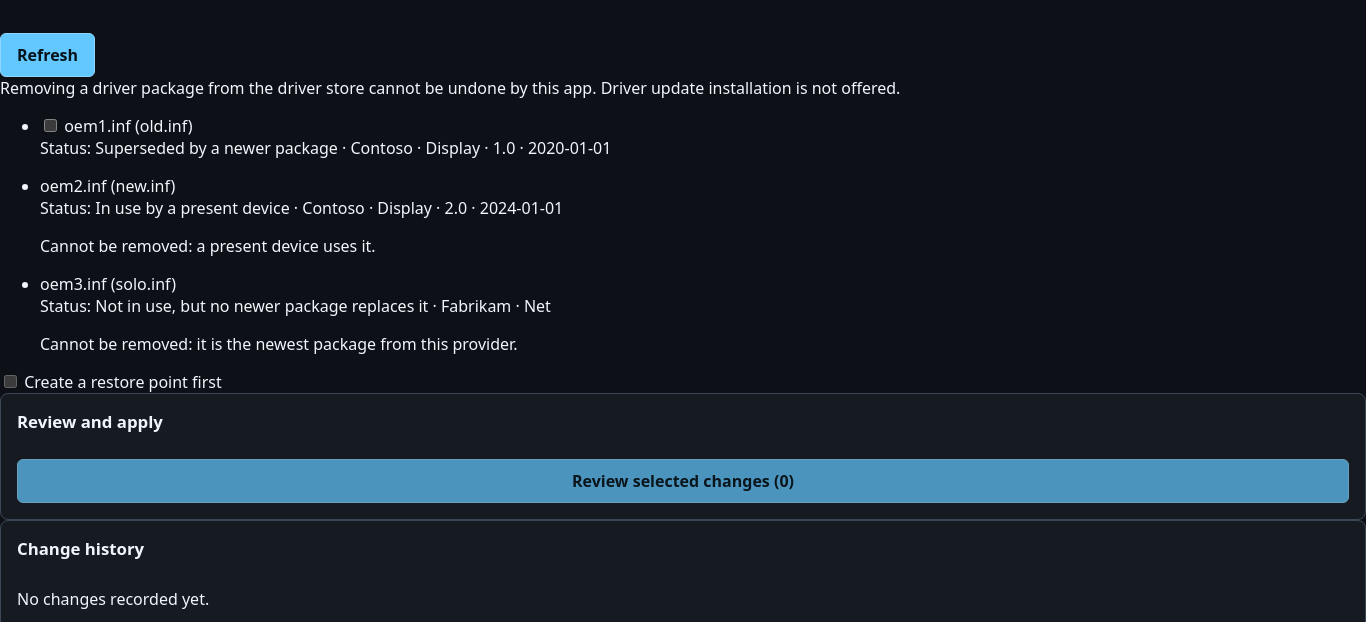
Scenario: sends only the delete when the restore point is unchecked
Click the checkbox labelled "oem1.inf (old.inf)" at (50, 126), box [44,119,57,132]
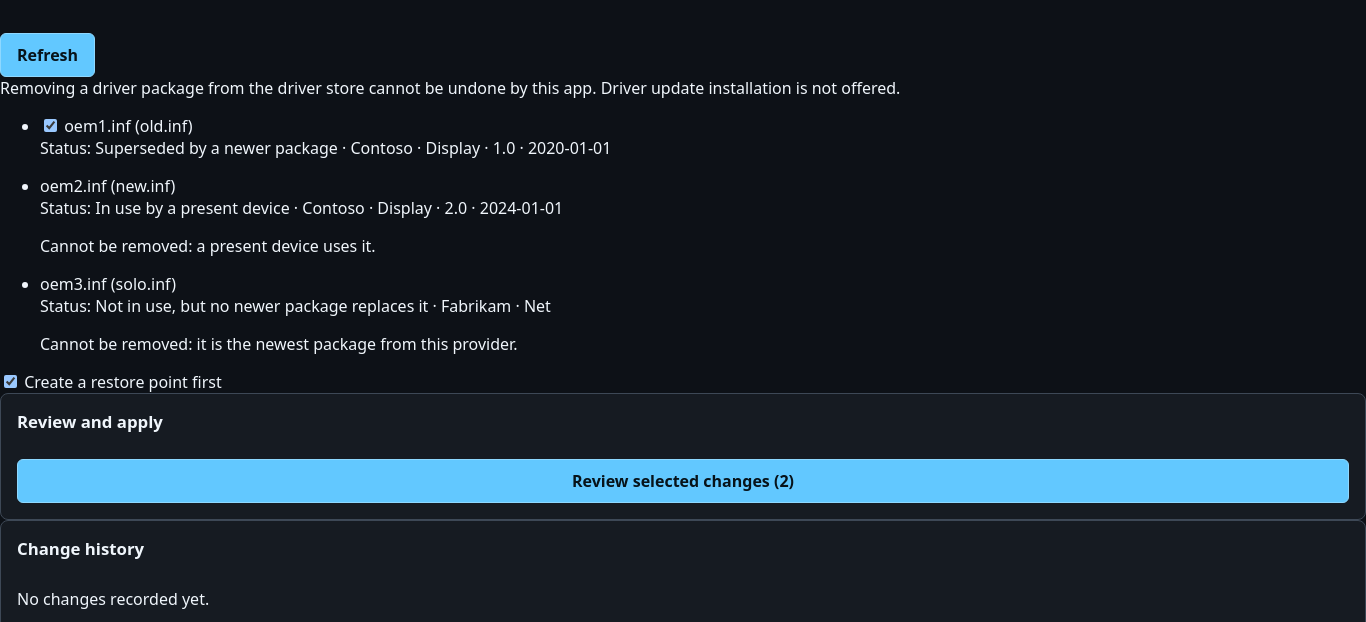
Click the checkbox labelled "Create a restore point first" at (10, 382), box [4,375,17,388]
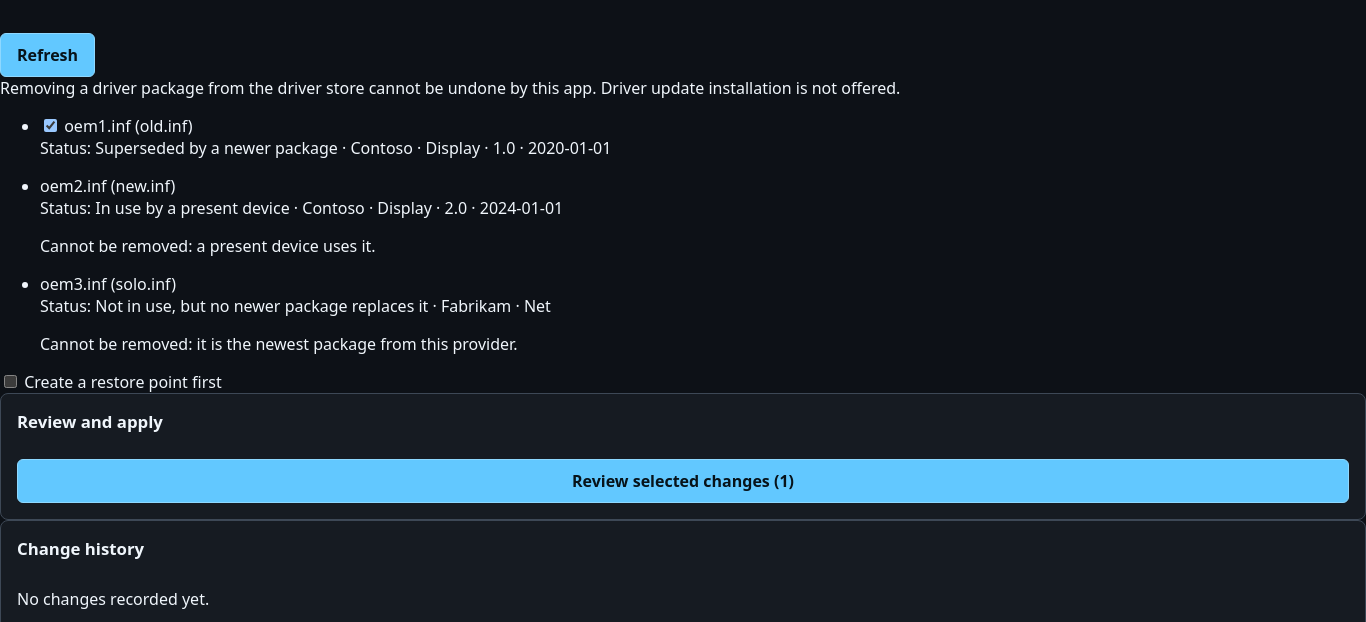
Click the button "Review selected changes (1)" at (683, 481), box [17,459,1349,503]
(page scrolled)
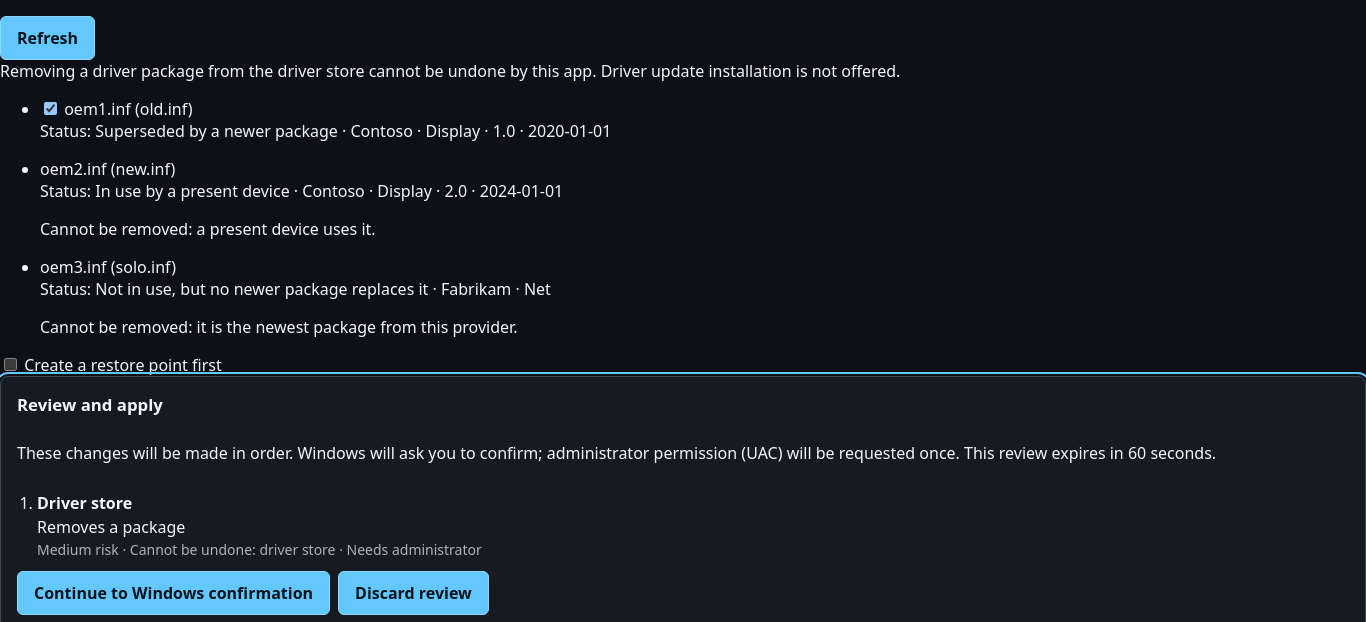
Check: the button "Continue to Windows confirmation" is shown, box [17,571,330,615]
